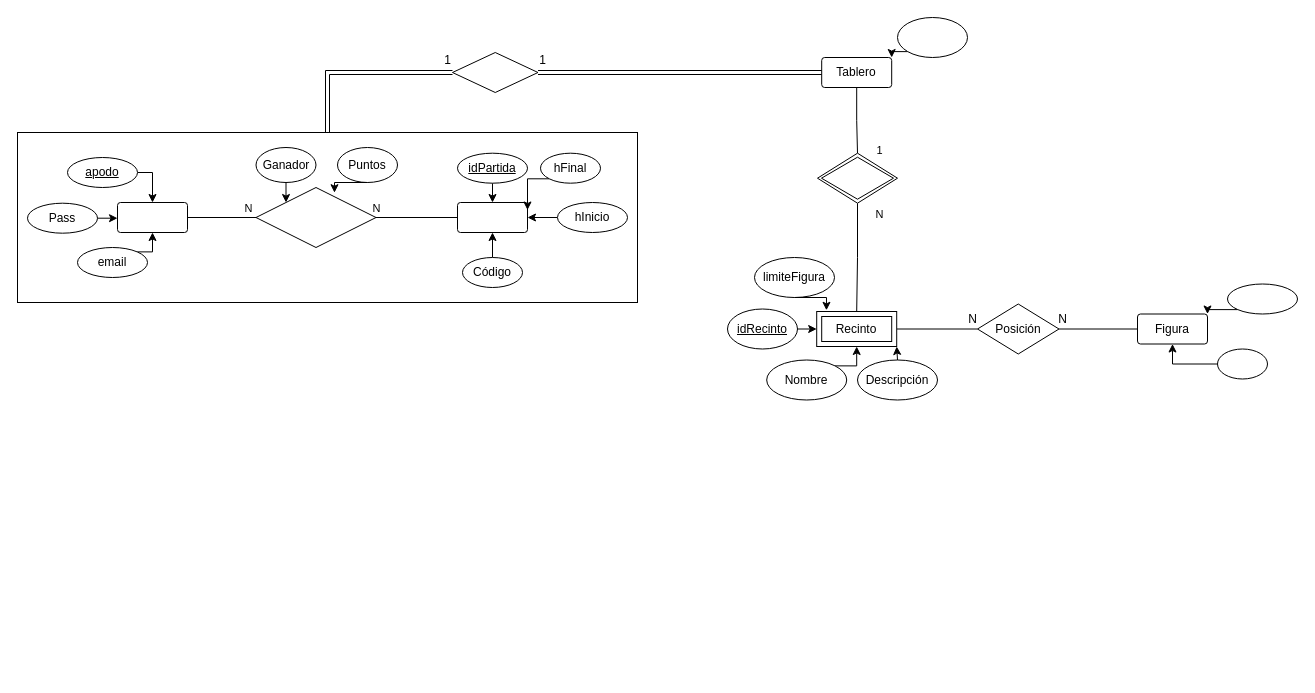
The diagram is 1315 pixels wide and 693 high, and some of its shapes have lost their labels. The box of each missing label's shape, as (x1, y1, x2, y2) in pixels:
Color: (1216, 348, 1268, 379)
Contiene: (816, 152, 898, 203)
idFigura: (1226, 283, 1298, 314)
idTablero: (896, 16, 968, 58)
Participante: (255, 186, 376, 248)
Partida: (456, 202, 528, 232)
Posee: (452, 52, 538, 92)
Usuario: (116, 202, 188, 232)
